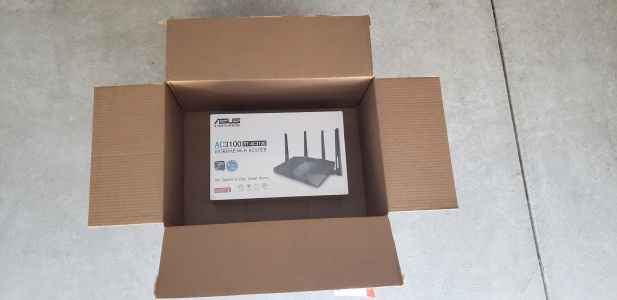innerbox: (170, 84, 387, 217)
outerbox: (96, 22, 449, 300)
product: (210, 113, 350, 197)
